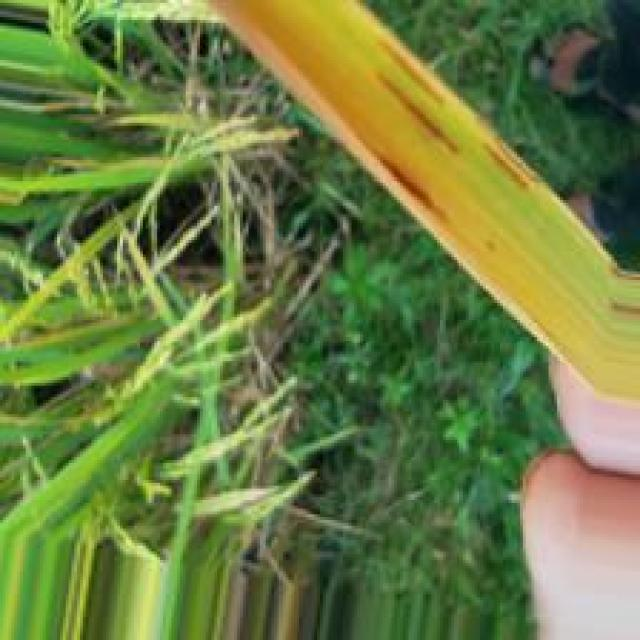Narrow_Brown_Leaf_Spot: (195, 0, 640, 404)
